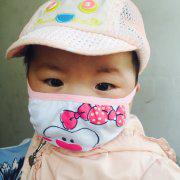OK: (27, 54, 139, 153)
